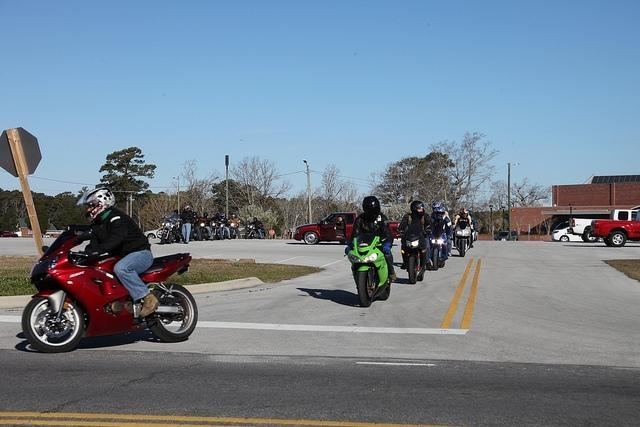car: (552, 225, 584, 242), (494, 230, 520, 242), (143, 227, 162, 239), (552, 221, 569, 233)
motorcycle: (21, 226, 198, 352), (346, 227, 394, 308), (395, 232, 432, 284), (451, 222, 475, 256), (428, 234, 450, 271), (160, 212, 180, 245), (244, 221, 266, 239), (200, 220, 208, 240), (210, 220, 218, 239), (230, 222, 237, 241)
truck: (294, 213, 402, 240), (569, 206, 640, 242), (591, 211, 640, 249)
